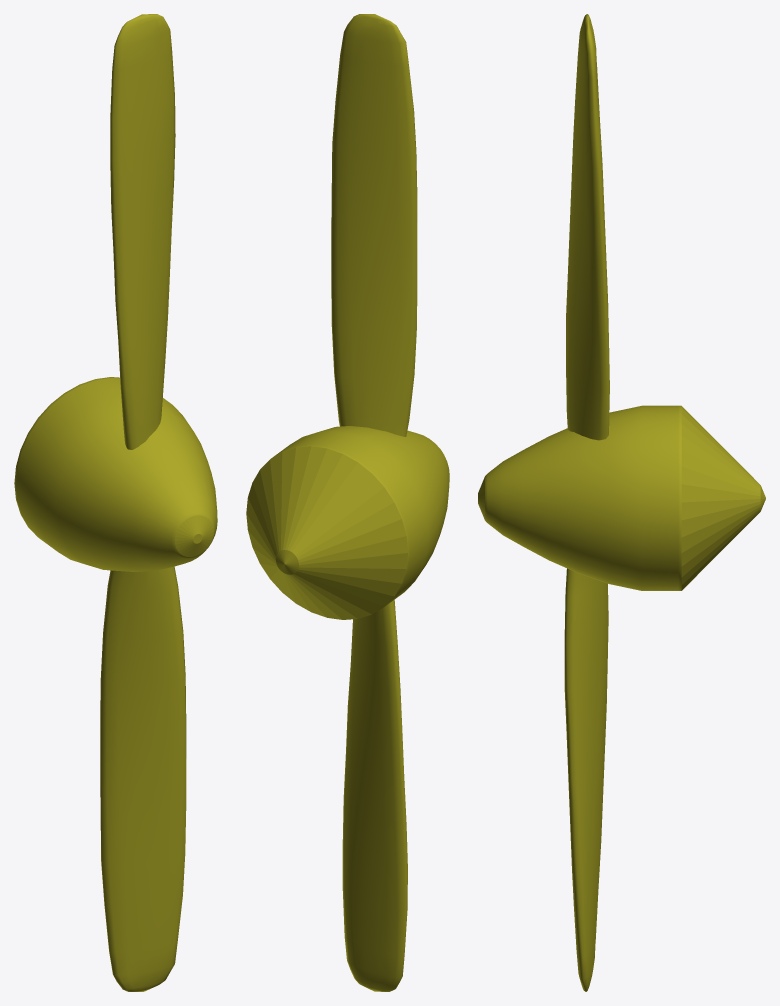
Rendered from PropellerYELLOW.fbx.
The picture shows the model from 3 angles, left to right: view 1: azimuth 30°, elevation 25°; view 2: azimuth 150°, elevation 25°; view 3: azimuth 270°, elevation 25°; orthographic projection.
Parts seen in each view (by area): view 1: Sphere; view 2: Sphere; view 3: Sphere.
Boxes of the visible parts, box(x1,y1,x2,y2) form: Sphere: box(14, 14, 217, 991); Sphere: box(246, 14, 449, 991); Sphere: box(478, 14, 765, 991).
Size of the model in its own units: 161 by 933 by 251.
